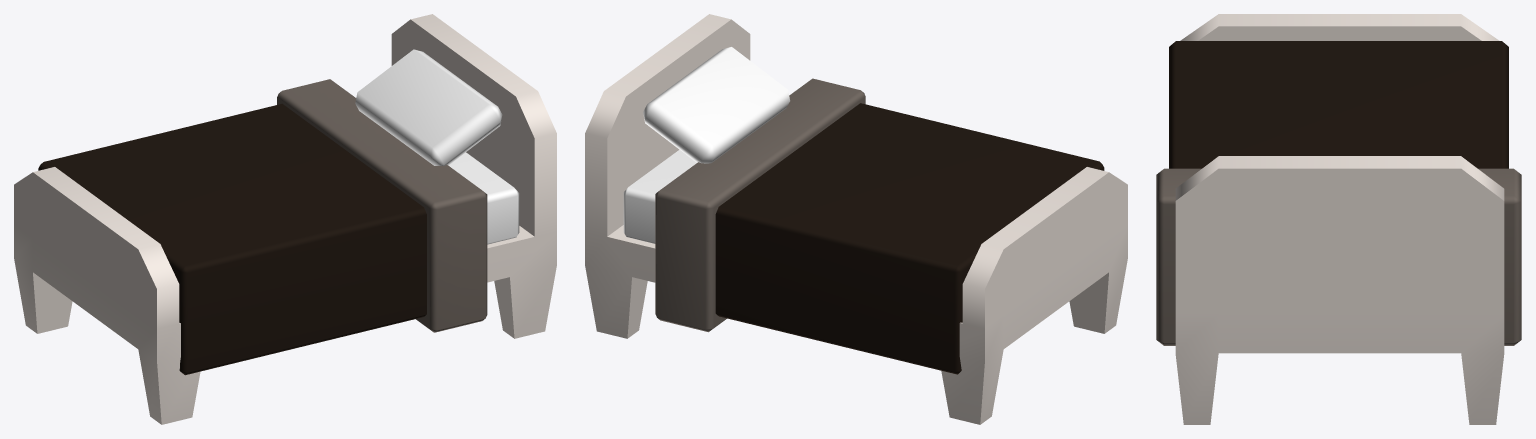
File: Bed.fbx
3 renders of one model, left to right at view 1: azimuth 30°, elevation 25°; view 2: azimuth 150°, elevation 25°; view 3: azimuth 270°, elevation 25°, orthographic. The views are drawn at different scales.
Parts seen in each view (by area): view 1: Bed; view 2: Bed; view 3: Bed.
Boxes of the visible parts, left/top/right/bottom form: Bed: left=14, top=14, right=556, bottom=424; Bed: left=585, top=14, right=1127, bottom=424; Bed: left=1156, top=14, right=1521, bottom=424.
Size of the model in its own units: 12.17 by 6.61 by 8.38.
1 material, 1 textured.
